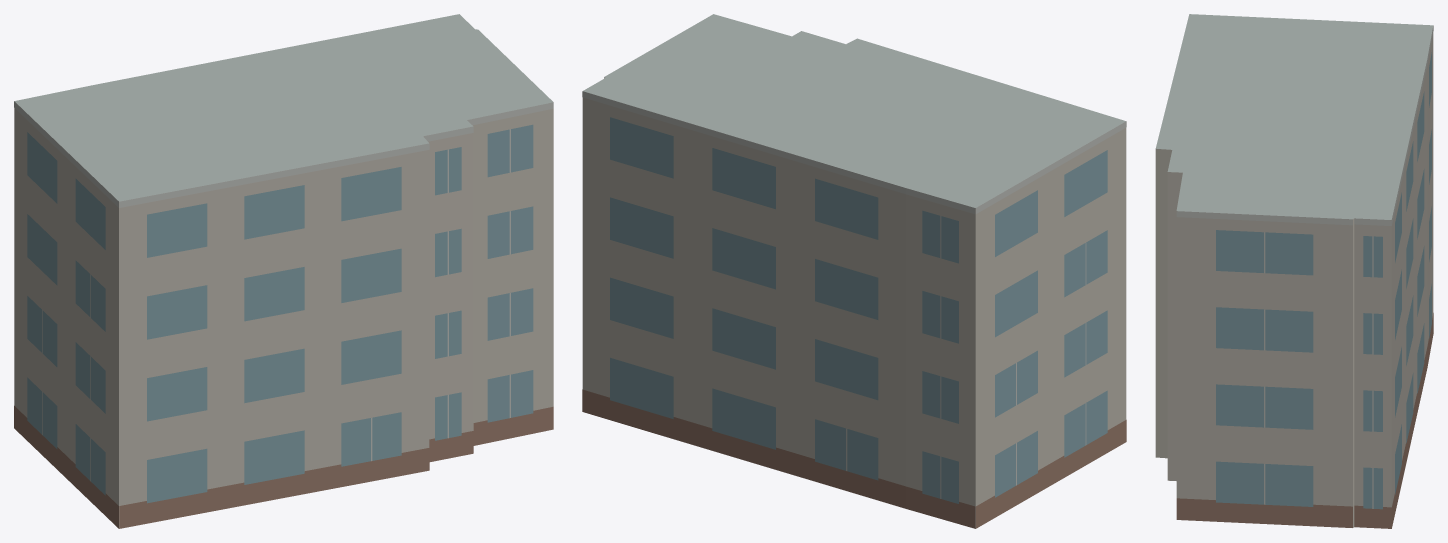
The model's file is survey-upis-32937129.glb.
3 renders of one model, left to right at view 1: azimuth 30°, elevation 25°; view 2: azimuth 150°, elevation 25°; view 3: azimuth 270°, elevation 25°, orthographic. The views are drawn at different scales.
Visible parts, largest first — view 1: survey-upis-32937129.tmp; view 2: survey-upis-32937129.tmp; view 3: survey-upis-32937129.tmp.
Boxes of the visible parts, box(x1,y1,x2,y2) form: survey-upis-32937129.tmp: box(14, 14, 553, 528); survey-upis-32937129.tmp: box(582, 14, 1126, 528); survey-upis-32937129.tmp: box(1155, 14, 1433, 528).
Bounding box in the file's own units: 17.91 × 12.5 × 10.2.
